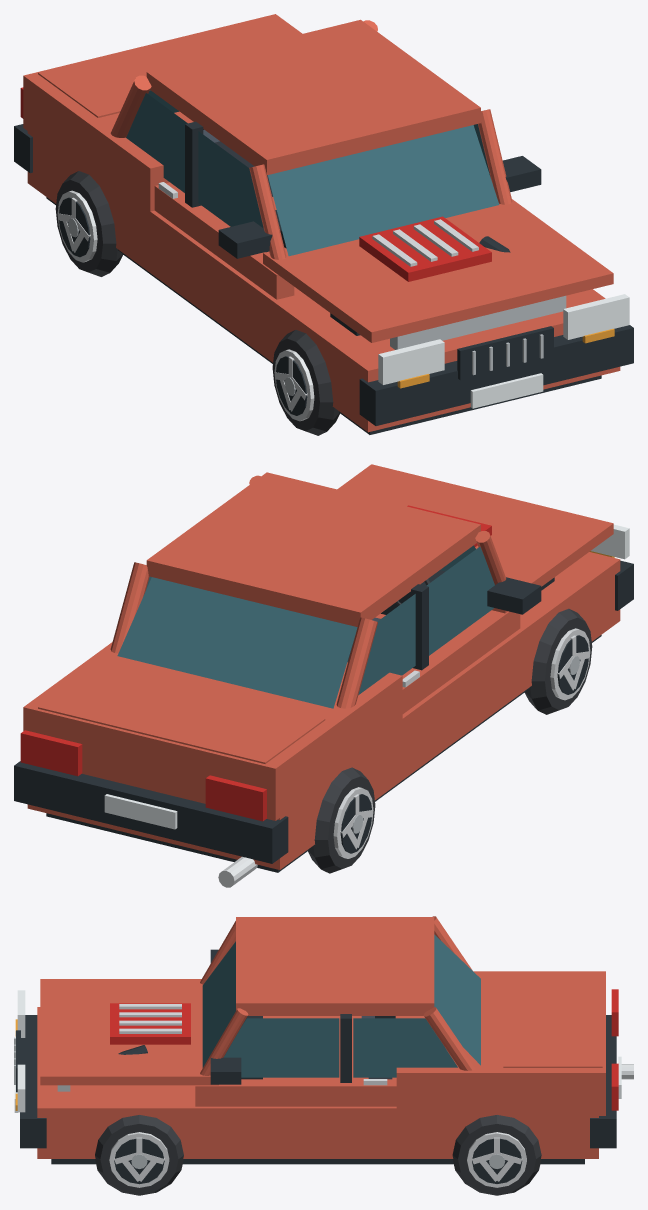
Rendered from h1-hatchback.glb.
The picture shows the model from 3 angles, top to bottom: view 1: azimuth 30°, elevation 25°; view 2: azimuth 150°, elevation 25°; view 3: azimuth 270°, elevation 25°; orthographic projection. The views are drawn at different scales.
Parts seen in each view (by area): view 1: roof, unibody_lower, hood, windshield, rear_quarters, bumper.001, hatch, front_side_glass.001, valve_cover, door_skin, rear_side_glass.001, tire.001 (+18 smaller); view 2: roof, rear_quarters, unibody_lower, rear_window, hatch, hood, bumper, front_side_glass.001, door_skin, rear_side_glass.001, tire.002, tire.001 (+16 smaller); view 3: unibody_lower, roof, hood, rear_quarters, hatch, front_side_glass, door_skin.001, rear_side_glass, rear_window, tire, tire.003, windshield (+17 smaller).
Boxes of the visible parts, bbox=[...] form: roof: bbox=[146, 19, 480, 175]; unibody_lower: bbox=[27, 122, 620, 432]; hood: bbox=[263, 199, 613, 342]; windshield: bbox=[268, 125, 499, 256]; rear_quarters: bbox=[23, 14, 302, 220]; bumper.001: bbox=[359, 325, 633, 425]; hatch: bbox=[38, 17, 291, 117]; front_side_glass.001: bbox=[198, 131, 269, 252]; valve_cover: bbox=[359, 216, 491, 281]; door_skin: bbox=[154, 182, 294, 299]; rear_side_glass.001: bbox=[126, 93, 187, 192]; tire.001: bbox=[272, 330, 339, 435]; roof: bbox=[146, 472, 480, 626]; rear_quarters: bbox=[23, 642, 402, 820]; unibody_lower: bbox=[27, 552, 620, 869]; rear_window: bbox=[117, 577, 357, 708]; hatch: bbox=[38, 663, 325, 763]; hood: bbox=[337, 464, 613, 613]; bumper: bbox=[14, 761, 288, 863]; front_side_glass.001: bbox=[426, 546, 494, 655]; door_skin: bbox=[402, 610, 520, 713]; rear_side_glass.001: bbox=[358, 594, 415, 694]; tire.002: bbox=[308, 767, 375, 873]; tire.001: bbox=[524, 608, 592, 714]; unibody_lower: bbox=[37, 1007, 598, 1158]; roof: bbox=[236, 917, 434, 1015]; hood: bbox=[40, 979, 218, 1085]; rear_quarters: bbox=[396, 971, 605, 1115]; hatch: bbox=[503, 975, 602, 1067]; front_side_glass: bbox=[223, 1018, 339, 1077]; door_skin.001: bbox=[195, 1079, 396, 1106]; rear_side_glass: bbox=[353, 1018, 457, 1077]; rear_window: bbox=[434, 934, 480, 1065]; tire: bbox=[452, 1115, 541, 1195]; tire.003: bbox=[95, 1115, 183, 1195]; windshield: bbox=[202, 941, 235, 1067].
Size of the model in its own units: 2.07 by 1.46 by 4.44.
